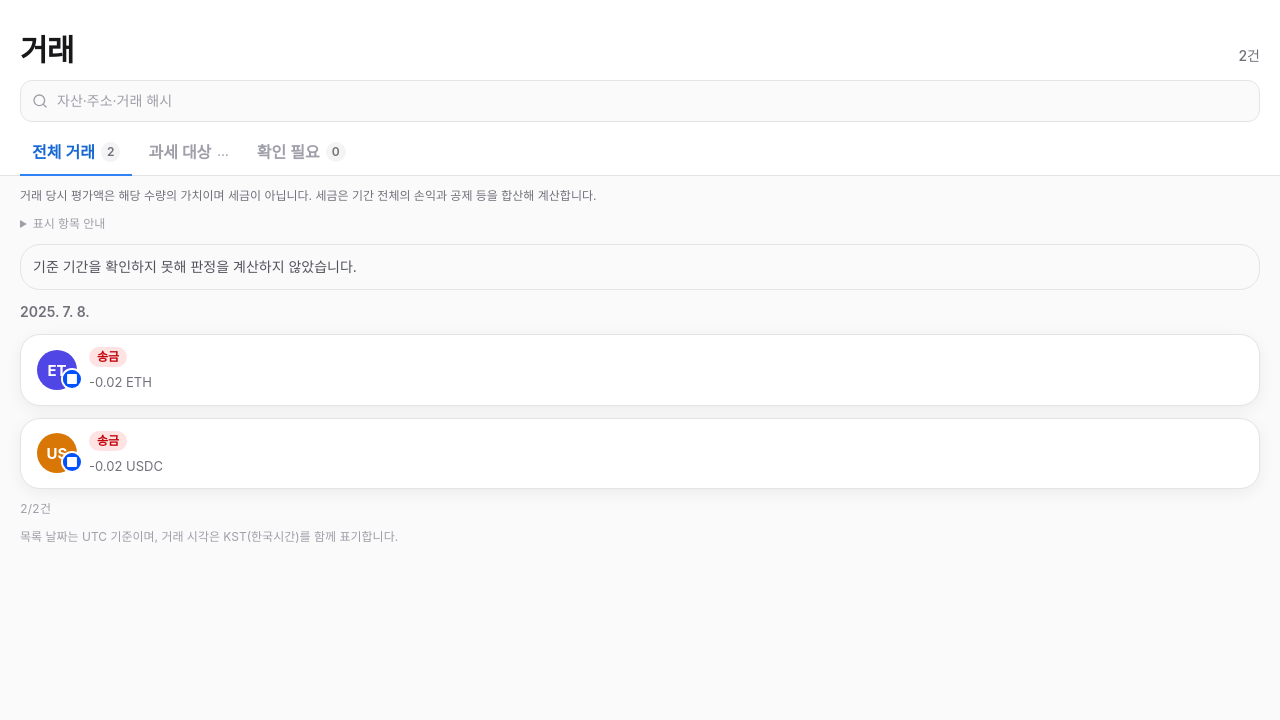
Test: 거래 검색 › 찾은 것이 없으면 무엇으로 찾았는지 말한다
This screenshot has width=1280, height=720.
Step 1. Type "존재하지않는토큰" into the search field named "거래 검색" → point(640, 101), box [20,80,1260,122]
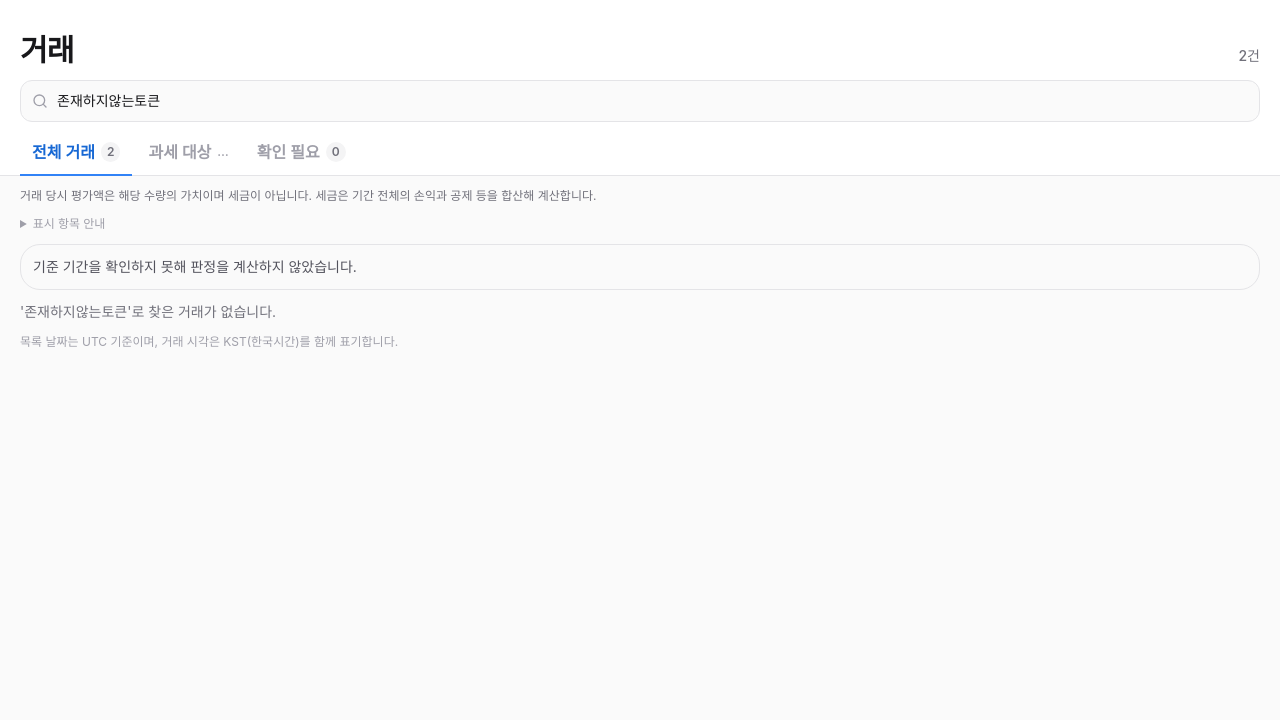
Expected: the text "'존재하지않는토큰'로 찾은 거래가 없습니다." is shown, [20,303,276,320]
